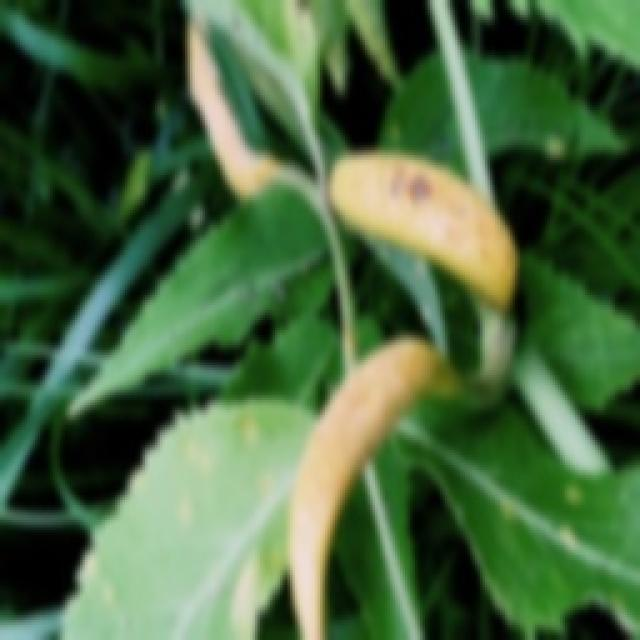Elderberry_rust: (283, 332, 455, 638), (325, 145, 517, 310)
